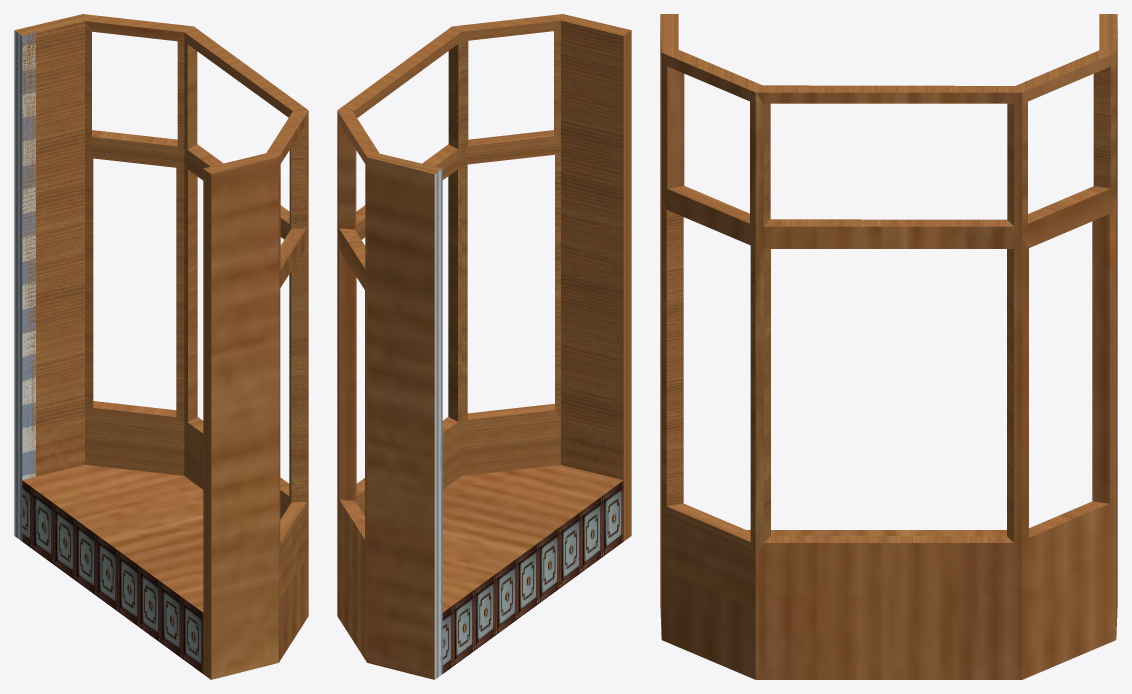
File: Fenetre Baywindow Émilia.FBX
3 views of the same model, side by side, from view 1: azimuth 30°, elevation 25°; view 2: azimuth 150°, elevation 25°; view 3: azimuth 270°, elevation 25° (orthographic). The views are drawn at different scales.
Visible parts, largest first — view 1: fenetre baywindow; view 2: fenetre baywindow; view 3: fenetre baywindow.
Boxes of the visible parts, x1,y1,x2,y2 form: fenetre baywindow: [14, 14, 308, 679]; fenetre baywindow: [337, 14, 631, 679]; fenetre baywindow: [660, 14, 1117, 679].
Bounding box in the file's own units: 71.73 × 250 × 176.
